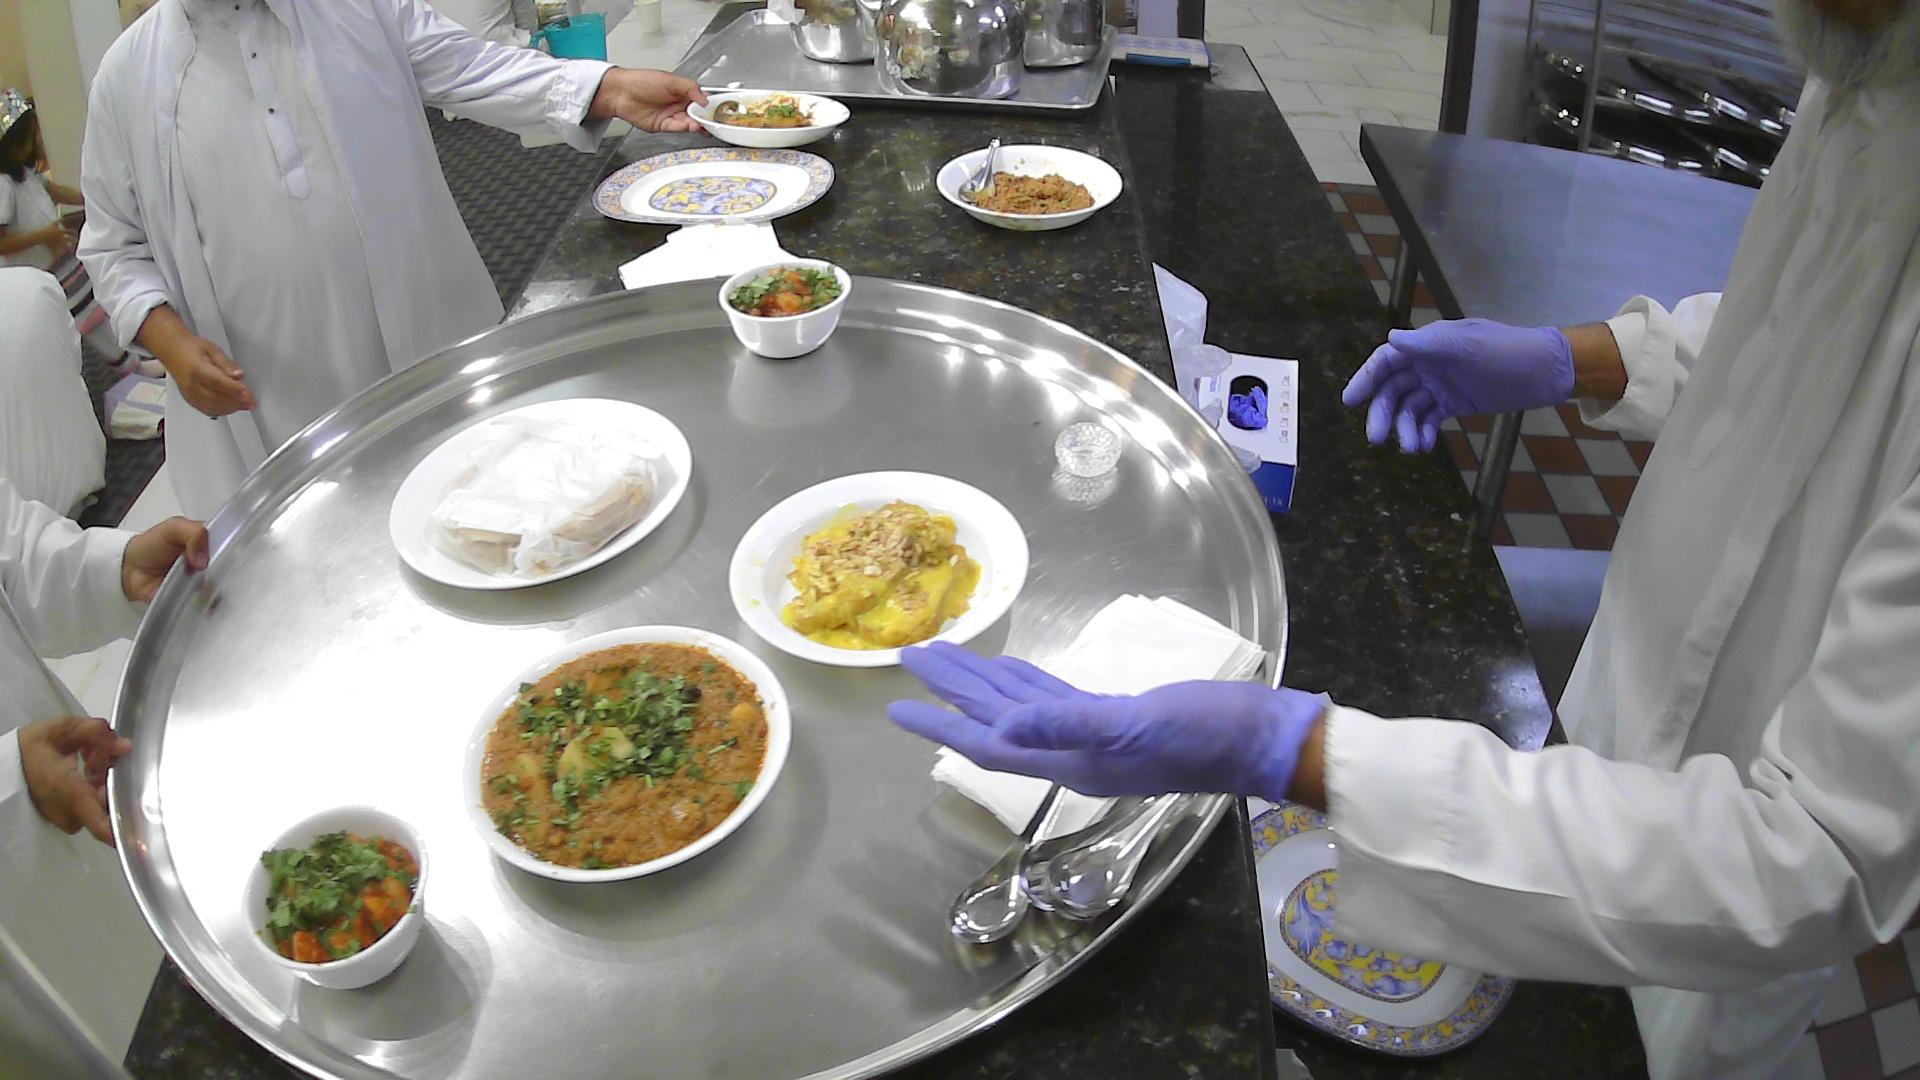thaal: (104, 266, 1296, 1080)
